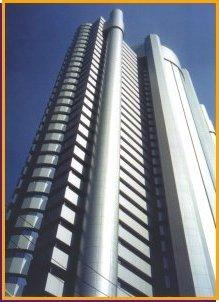building: (7, 8, 216, 295)
